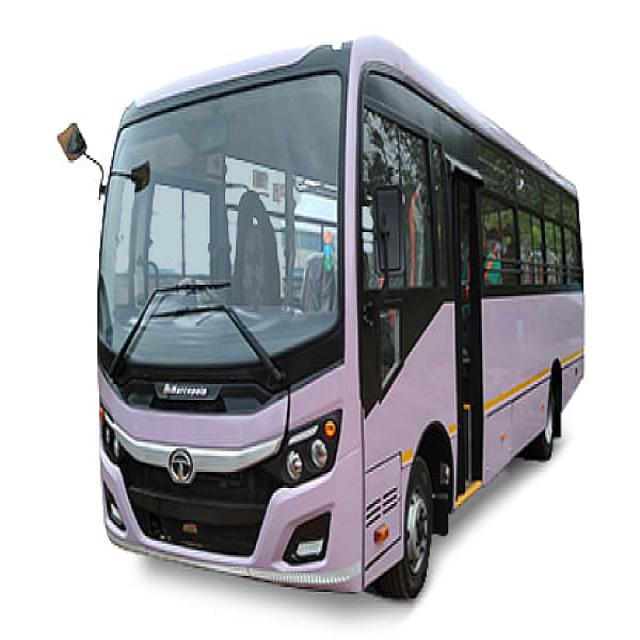bus: (98, 38, 584, 598), (59, 124, 89, 158)
